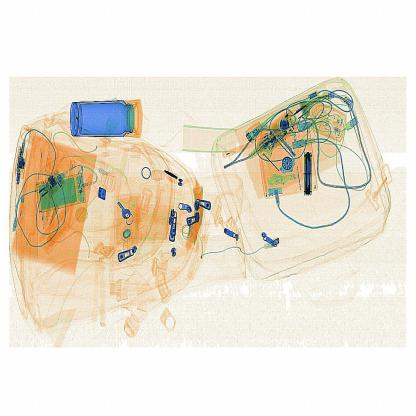scissors: (297, 142, 321, 199)
